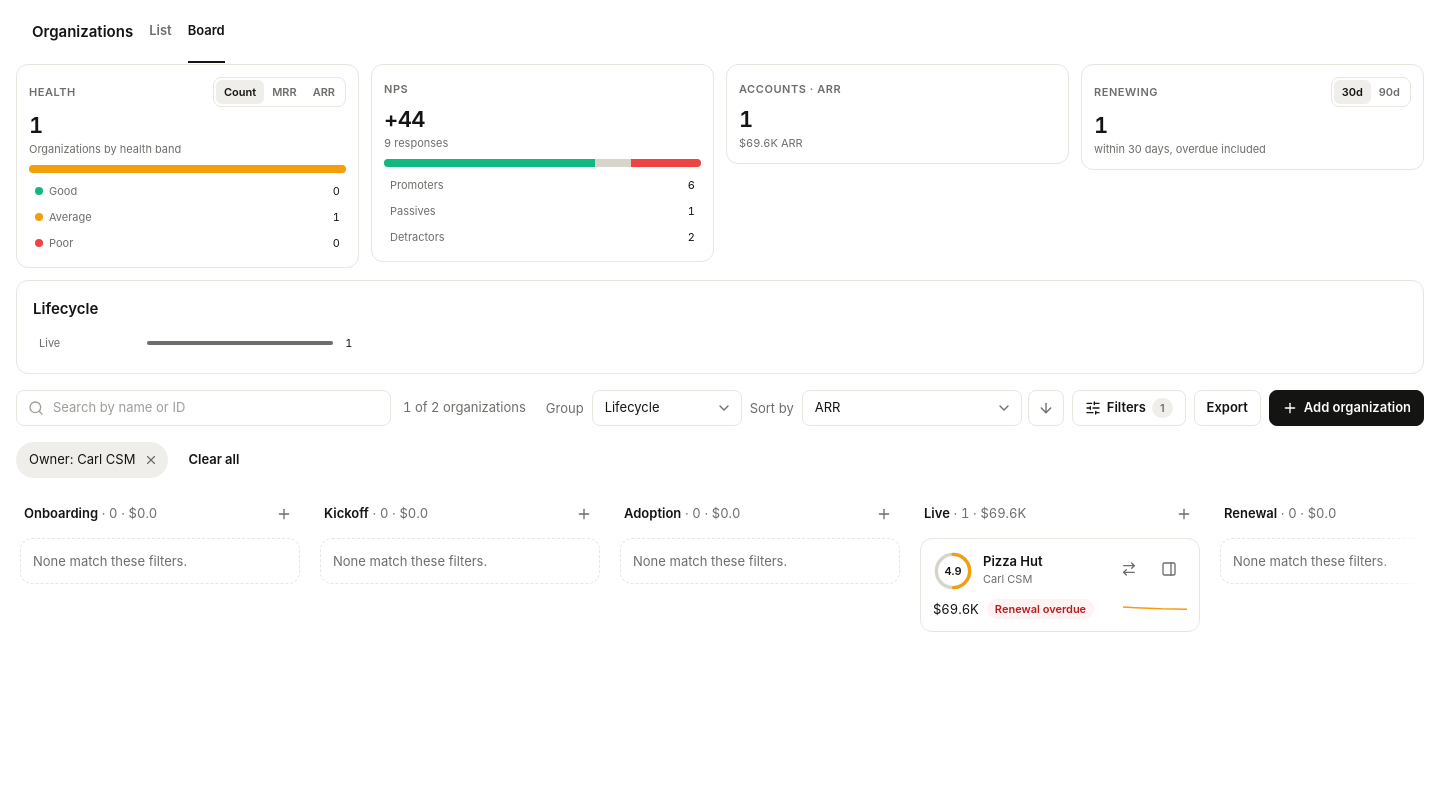
Test: Organizations board (portfolio) › filters through the URL like the List; group=none still shows lifecycle columns
Expected: the text "1 of 2 organizations" is shown, x1=403 y1=398 x2=538 y2=418
Expected: the dropdown labelled "Group" shows "Lifecycle", x1=592 y1=390 x2=742 y2=426
Click the button named "Remove filter: Owner: Carl CSM": (151, 460) x1=139 y1=448 x2=163 y2=472
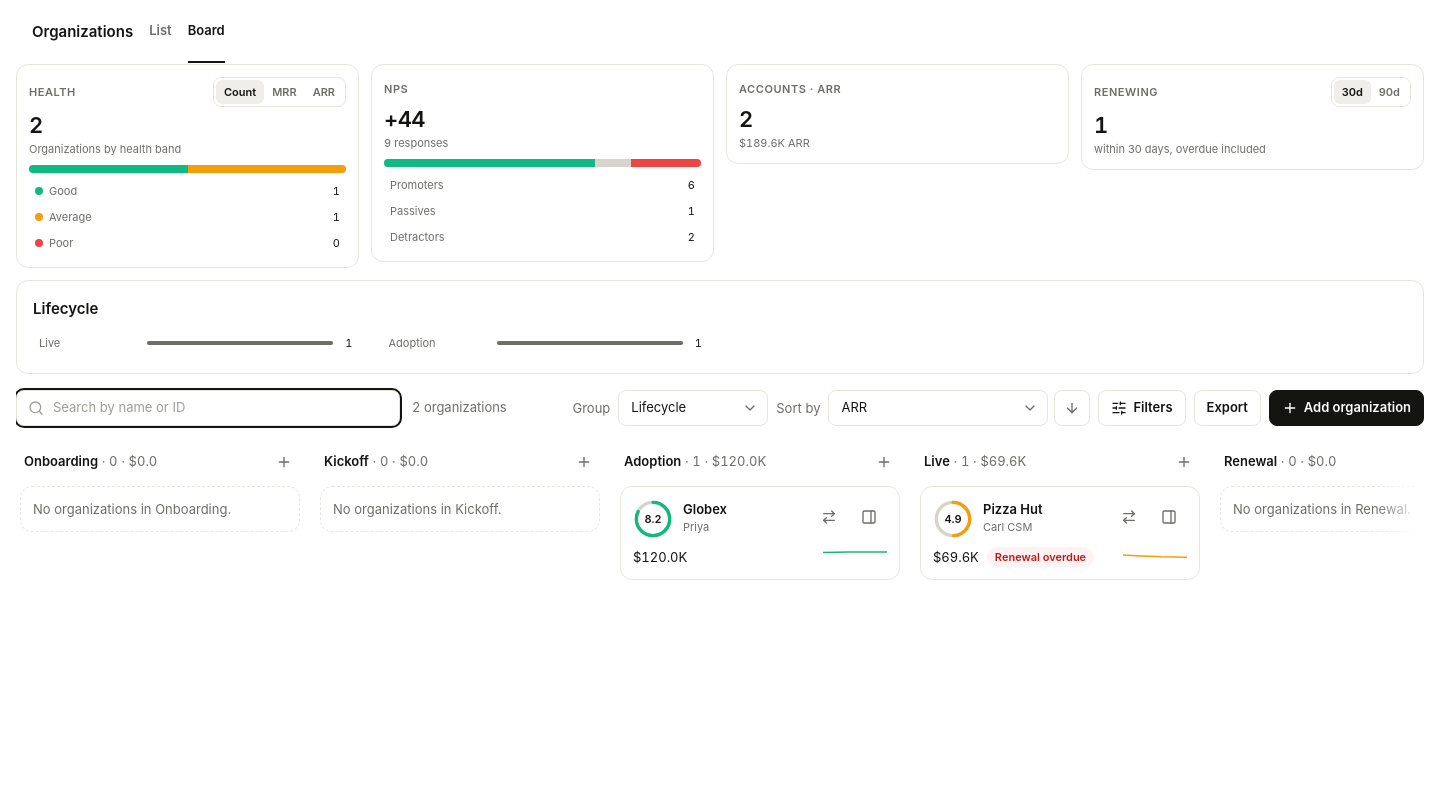
Select "Health" in the dropdown labelled "Group": (693, 408) x1=618 y1=390 x2=768 y2=426
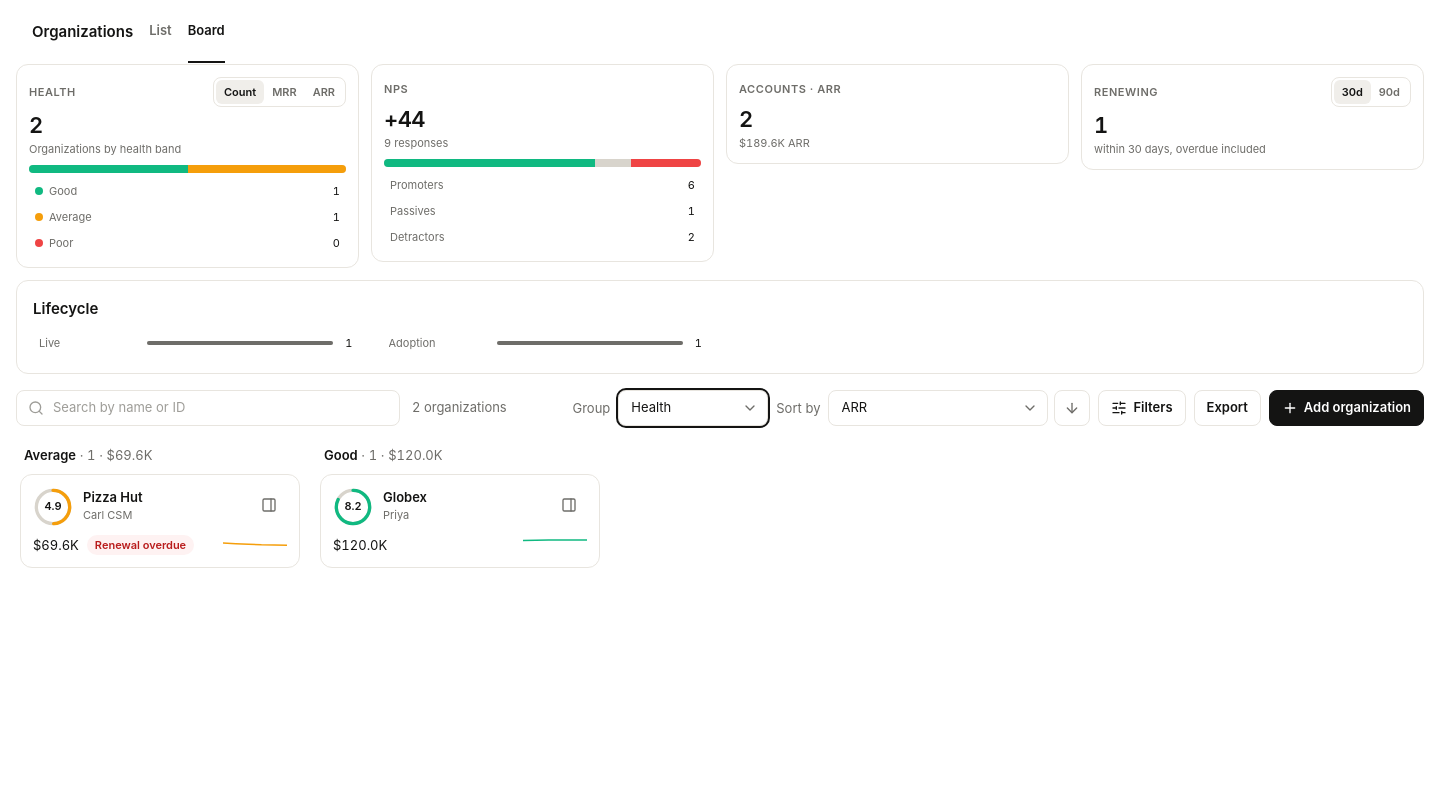
Expected: the heading "Average · 1 · $69.6K" is shown, x1=24 y1=447 x2=152 y2=463
Expected: the link "Pizza Hut" is shown, x1=83 y1=488 x2=142 y2=504
